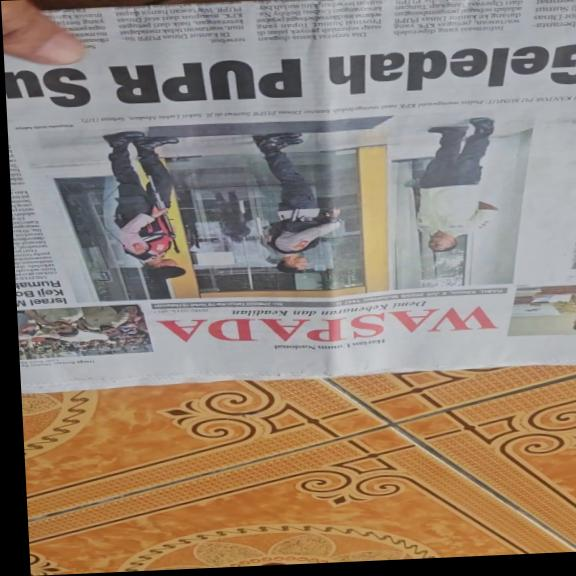Kertas: (17, 0, 576, 380)
